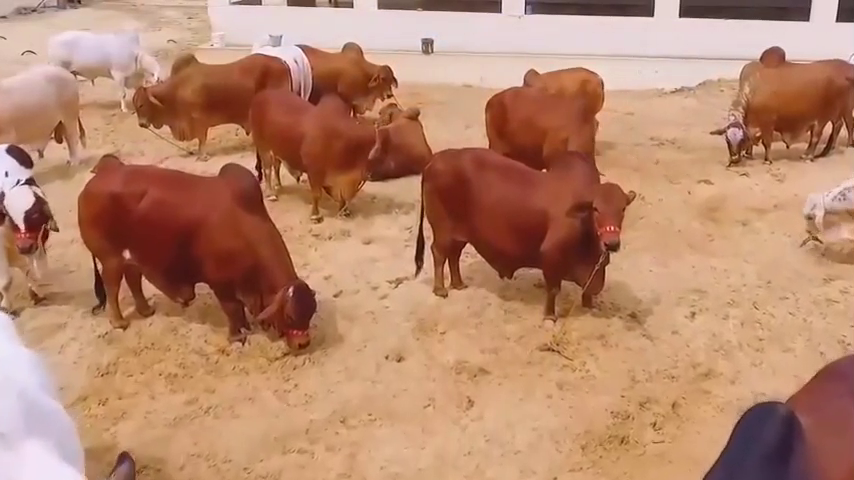bo: (69, 142, 325, 355), (412, 137, 644, 330), (1, 313, 159, 480), (689, 322, 854, 476), (117, 41, 284, 163), (246, 86, 383, 230), (709, 45, 854, 168), (471, 69, 614, 174), (36, 15, 164, 118), (1, 140, 69, 325), (296, 25, 414, 121), (1, 61, 93, 172), (361, 78, 434, 171), (254, 23, 320, 110), (796, 165, 854, 257), (524, 55, 610, 116)
